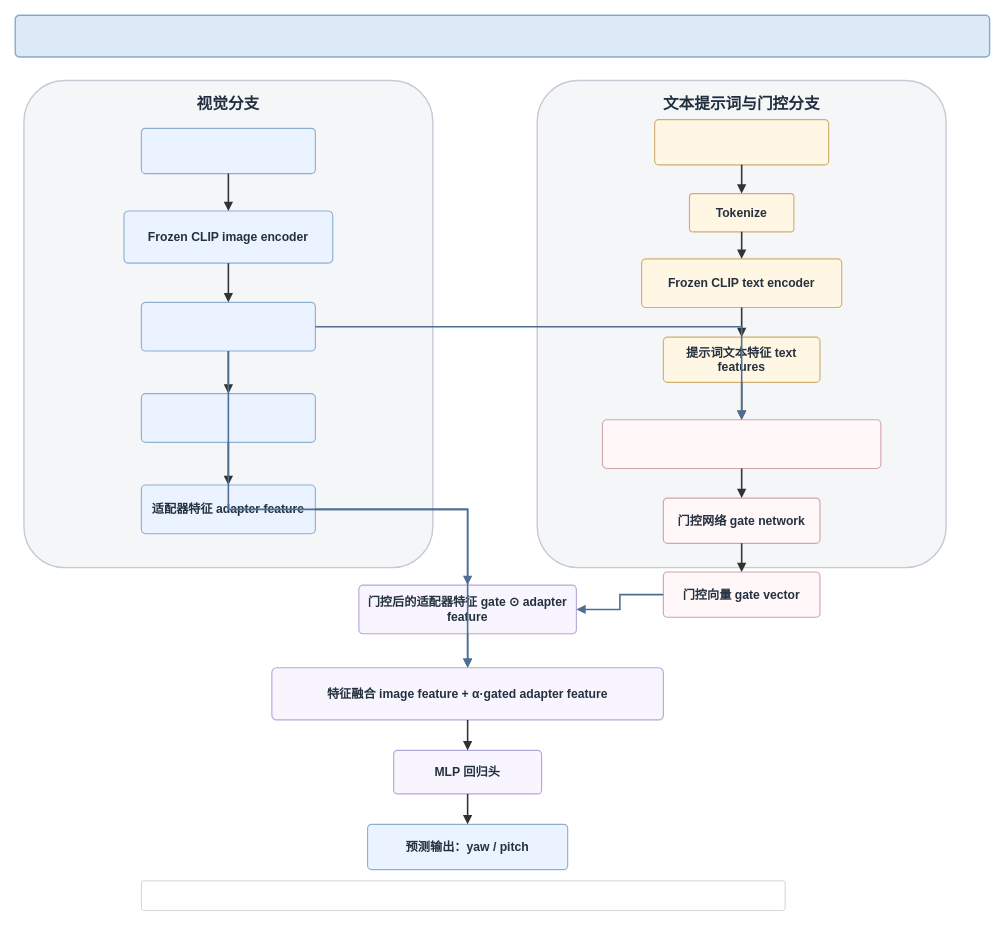
Some shapes in this 1006 by 927 pixel diagram are drawn without their labels. The shapes that lost their labels are listed below. From the top down, each one's box as (x1, y1, x2, y2) in pixels, then its label:
(14, 14, 990, 57): 图 3-2 Prompt-Gated CLIP-Adapter 方法框架图（简化版）
(140, 127, 316, 174): 输入全脸图像
(654, 119, 829, 165): 固定提示词集合
(140, 301, 316, 351): 图像特征 image feature
(140, 393, 316, 443): 轻量特征适配器 adapter
(602, 419, 881, 469): 提示词相似度计算 image feature × text features
(141, 880, 785, 910): 核心思想：提示词相似度不直接输入回归头，而是通过门控向量间接调节 adapter 特征强度
